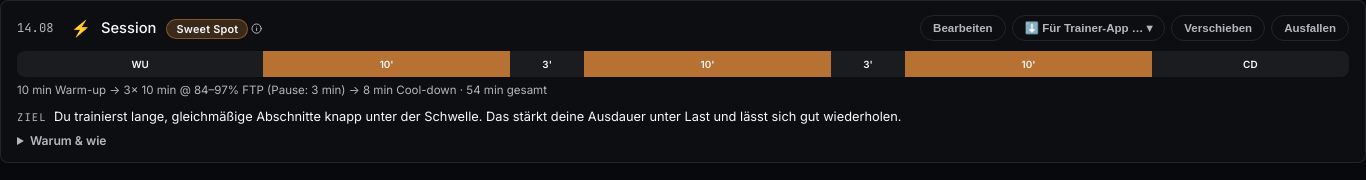
Scenario: WeekGridDetailRow — Verschieben/Ausfallen/Push-Verdrahtung › Zwift/MyWhoosh-Export › löst bei numerischem Workout einen Zwift-Download aus und zeigt den Zielordner-Hinweis
This screenshot has width=1366, height=180.
Click the button titled "Trainingsdatei für Zwift oder MyWhoosh herunterladen" at (1088, 28), box [1012,15,1165,41]
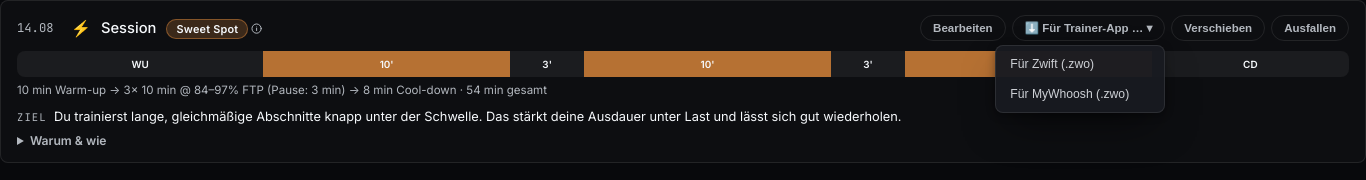
Click the button "Für Zwift (.zwo)" at (1080, 64), box [1000,50,1160,78]
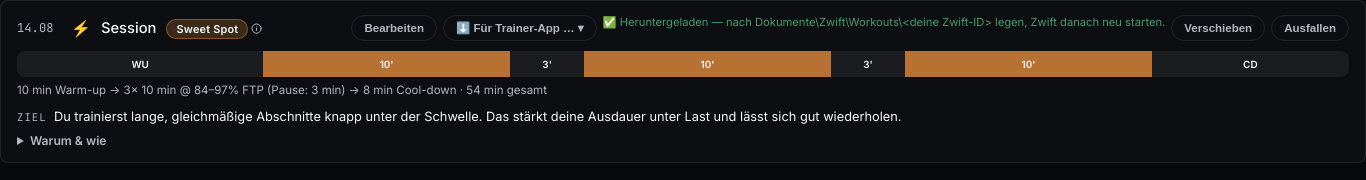
Now the text "Zwift\\Workouts" is shown, box [603,15,1165,29]
